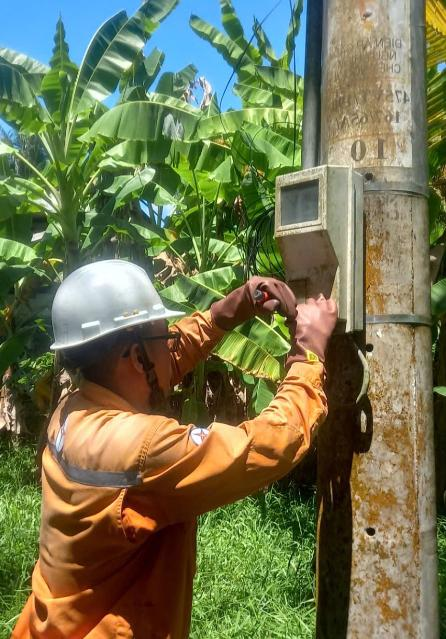gloves: (195, 262, 306, 328), (279, 287, 354, 358)
helmet: (36, 232, 188, 354)
